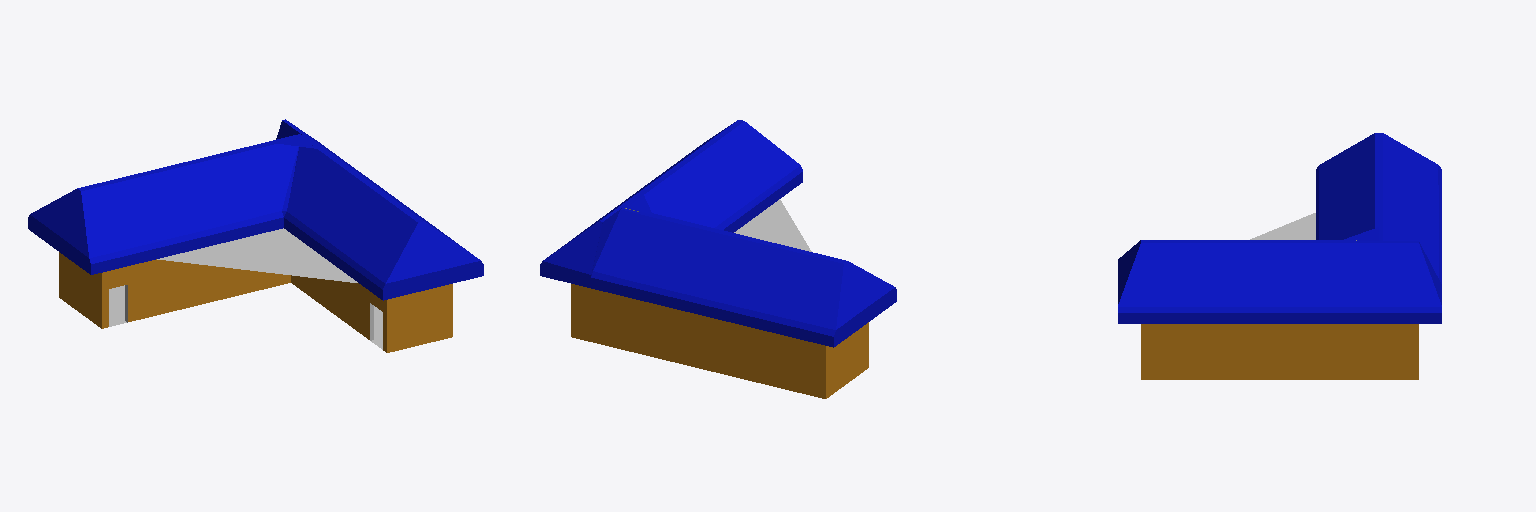
File: sekolah2.mtl.obj
The picture shows the model from 3 angles: view 1: azimuth 30°, elevation 25°; view 2: azimuth 150°, elevation 25°; view 3: azimuth 270°, elevation 25°; orthographic projection.
Visible parts, largest first — view 1: PM3D_Cube3D2PM3D_Cube3D1.002; view 2: PM3D_Cube3D2PM3D_Cube3D1.002; view 3: PM3D_Cube3D2PM3D_Cube3D1.002.
Part boxes in pixels (x1,y1,x2,y2): PM3D_Cube3D2PM3D_Cube3D1.002: (28,119,483,352); PM3D_Cube3D2PM3D_Cube3D1.002: (540,120,896,398); PM3D_Cube3D2PM3D_Cube3D1.002: (1118,133,1441,379).
Bounding box in the file's own units: 12.43 × 4.96 × 11.88.